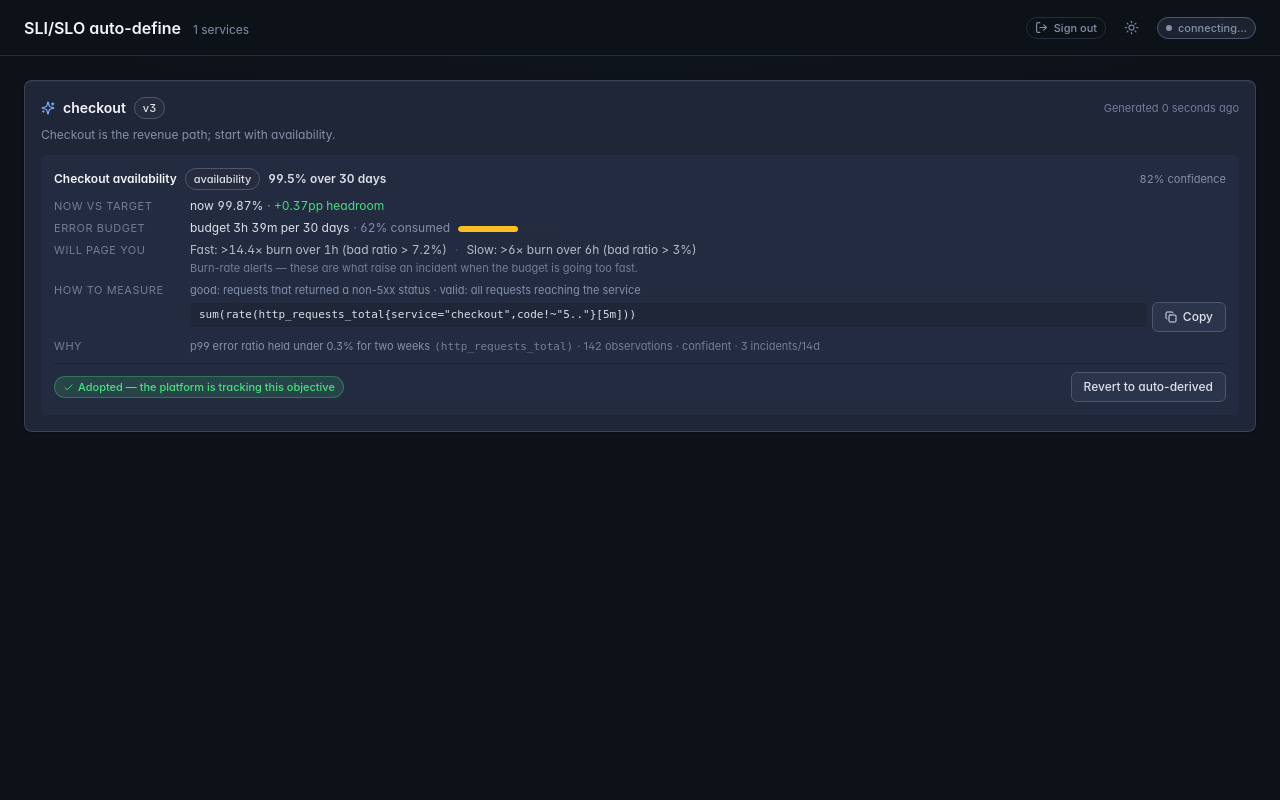
Test: SLORecommendationsPage — revert to auto-derived › surfaces a 422 cannot_revert instead of a generic failure
Click the button with test id "slo-unadopt-btn" at (1148, 387), box 1070,372 -> 1226,402
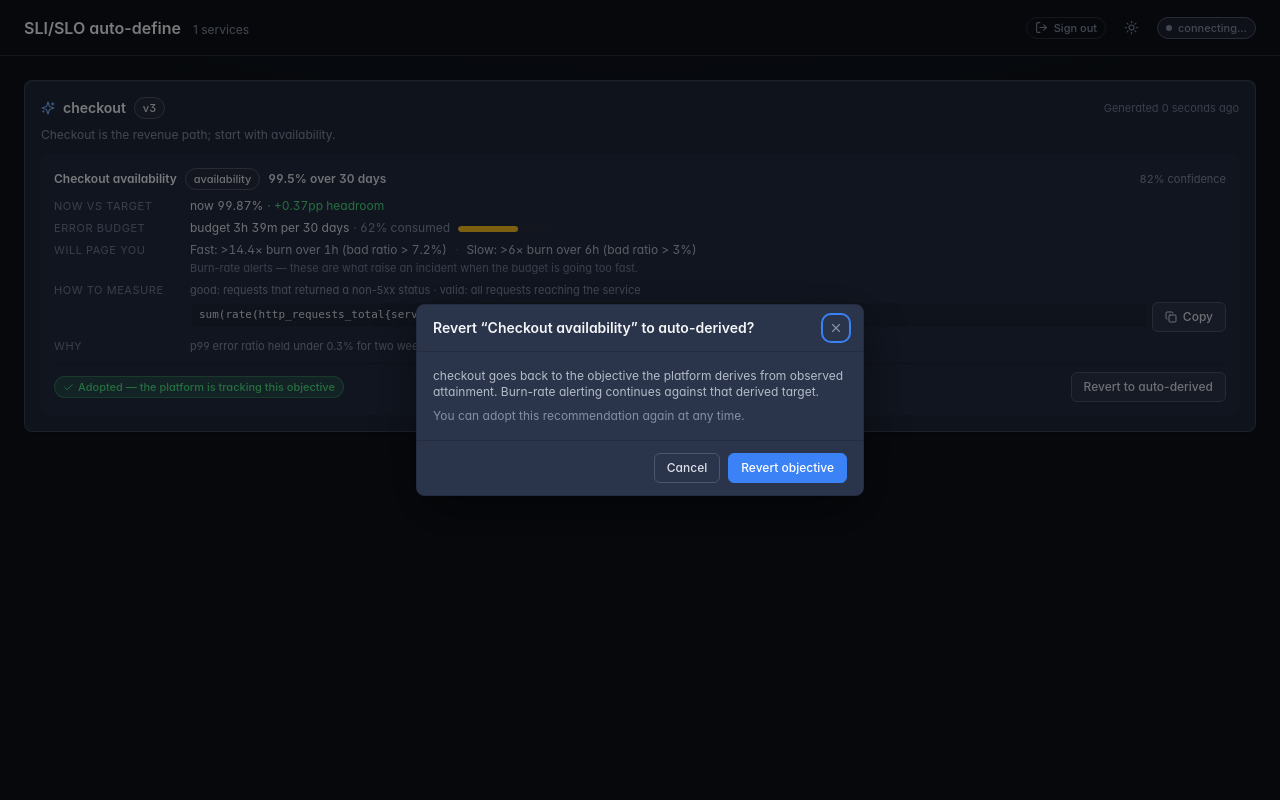
Click the button "Revert objective" at (788, 468), box 728,453 -> 847,483
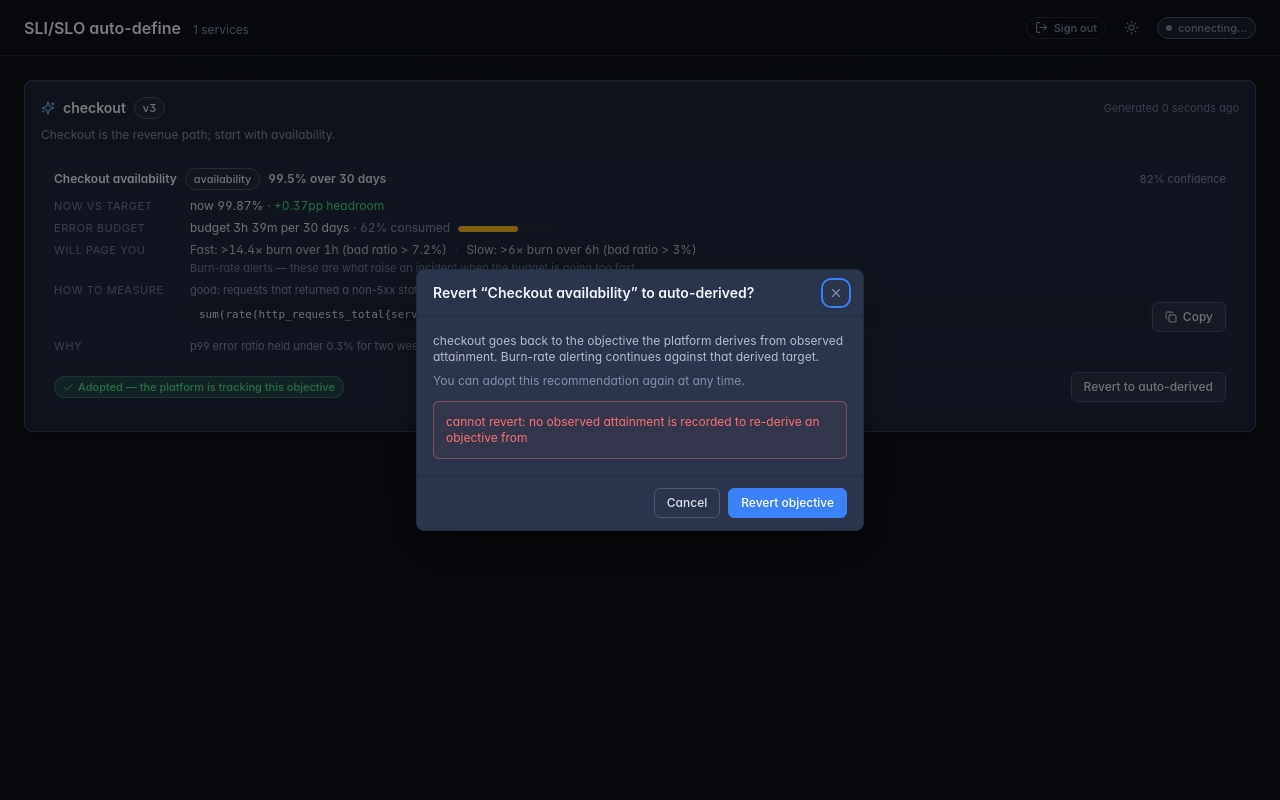
Check: the text "no observed attainment is recorded" is shown, box 446,414 -> 820,445
